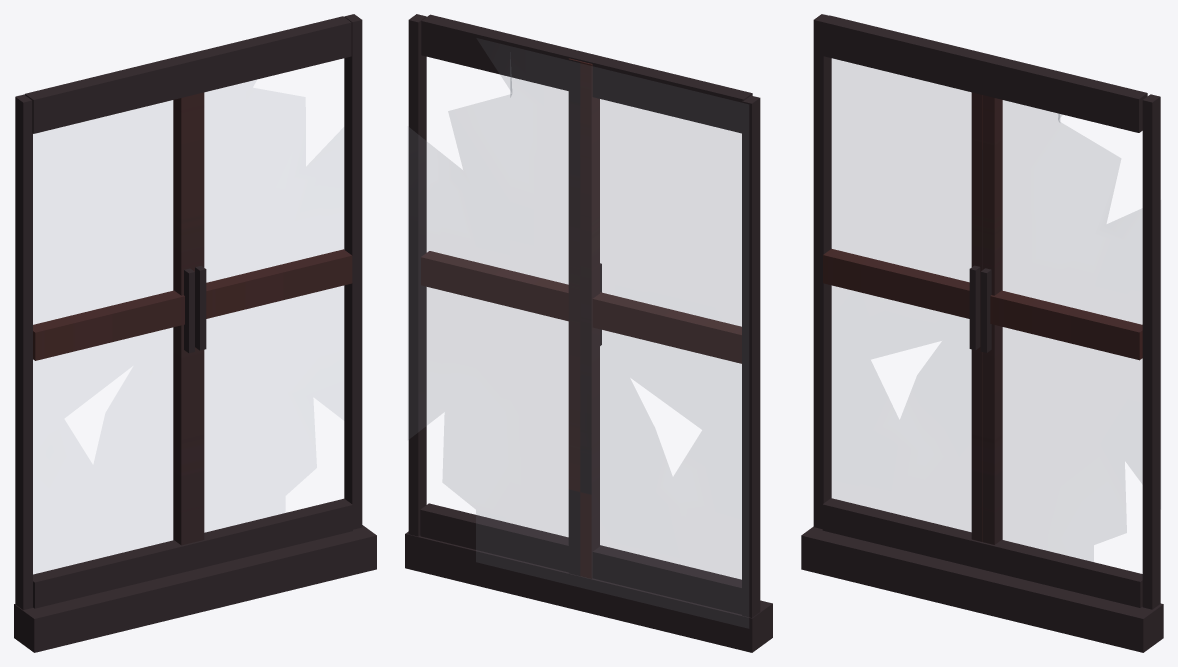
File: ventana2contextura.fbx
3 renders of one model, left to right at view 1: azimuth 30°, elevation 25°; view 2: azimuth 150°, elevation 25°; view 3: azimuth 330°, elevation 25°, orthographic.
Parts seen in each view (by area): view 1: pPlane1; view 2: pPlane1; view 3: pPlane1.
Part boxes in pixels (left/top/right/bottom): pPlane1: left=14, top=14, right=376, bottom=652; pPlane1: left=405, top=14, right=772, bottom=652; pPlane1: left=801, top=14, right=1163, bottom=652.
Size of the model in its own units: 1.96 by 2.97 by 0.2438.
Materials: 2 (1 with a texture image).
